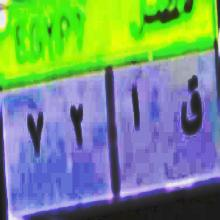2: (64, 100, 91, 156)
7: (21, 108, 49, 174)
alif: (125, 82, 147, 139)
qaaf: (177, 74, 205, 146)
